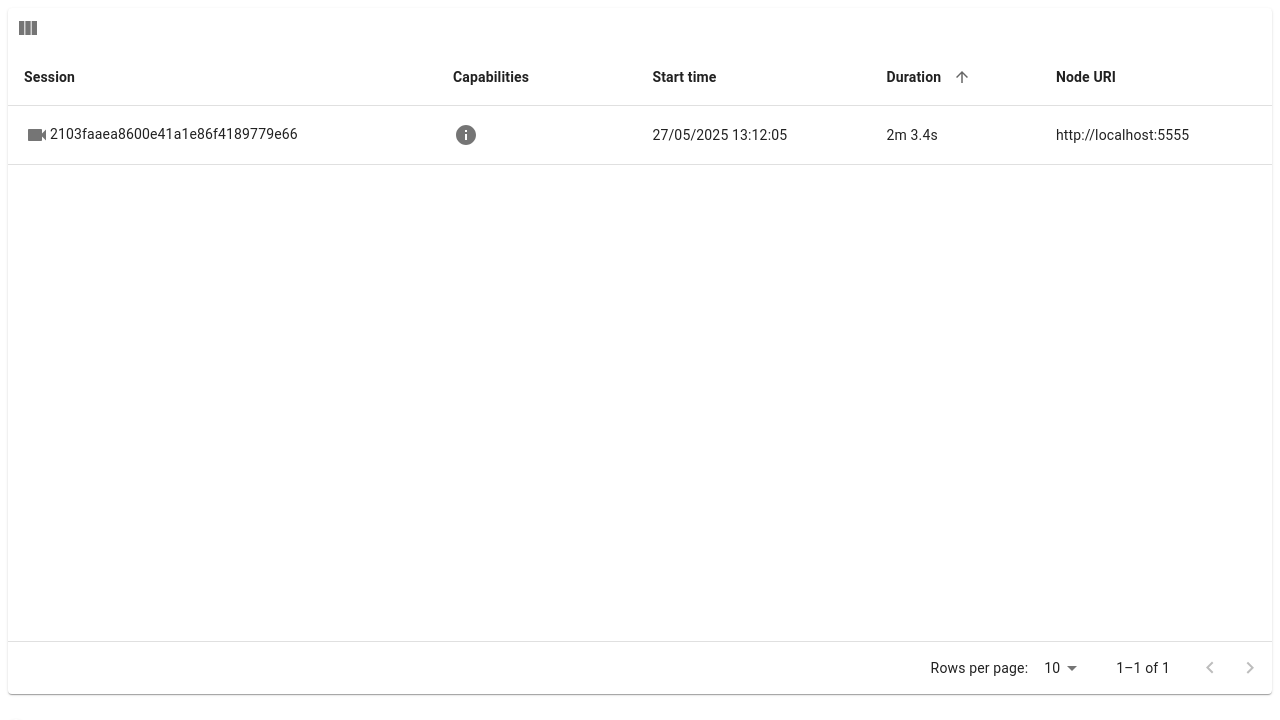
Scenario: Session deletion functionality › shows delete button in session info dialog
Click the button with test id "InfoIcon" at (466, 135), box x1=453 y1=122 x2=479 y2=148
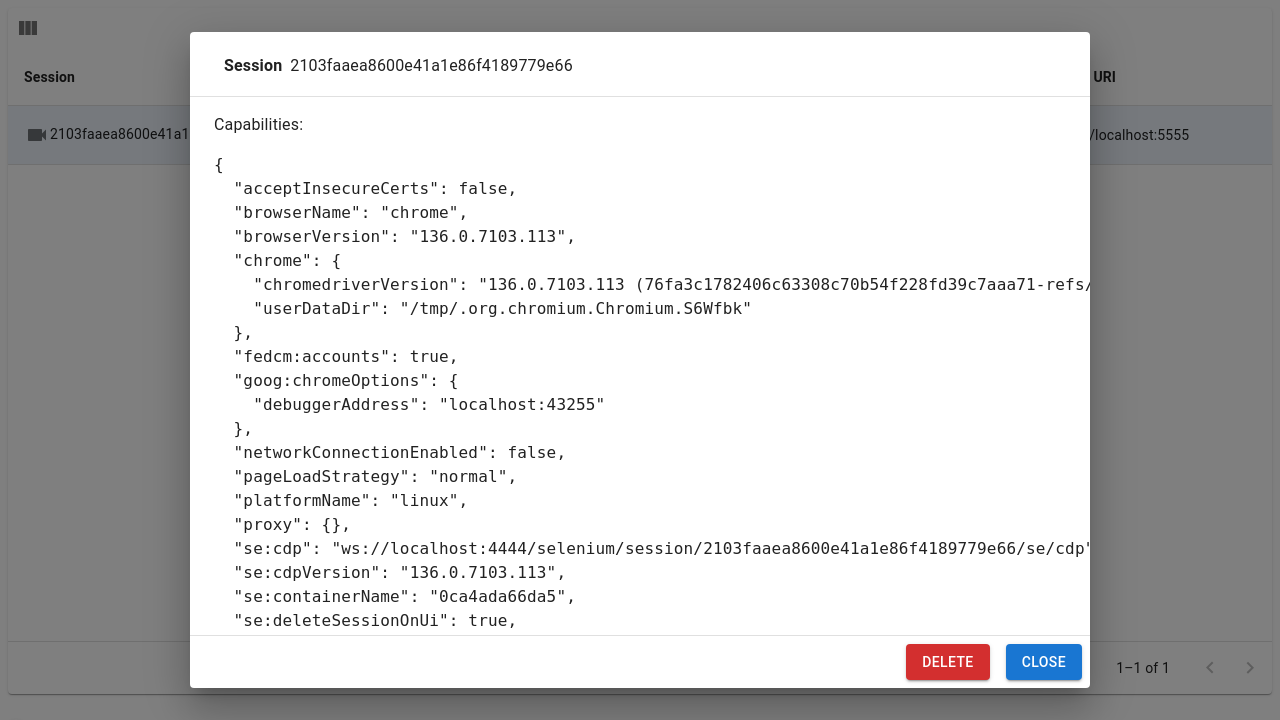
Check: the button "Delete" is shown, box x1=906 y1=644 x2=990 y2=680
